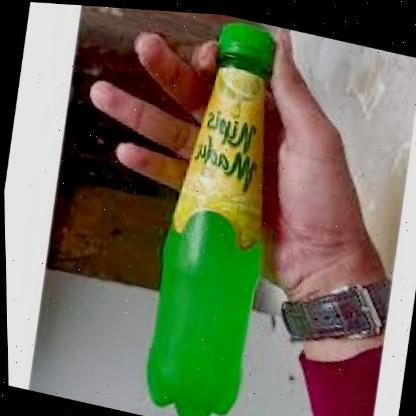Plastic Bottle: (146, 21, 276, 414)
